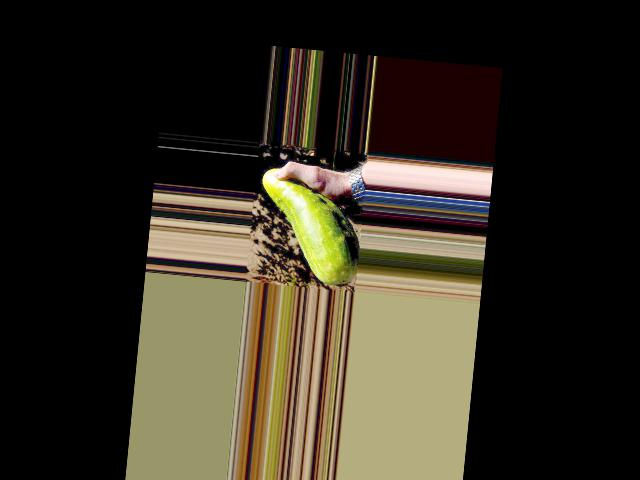cucumber: (253, 167, 367, 288)
